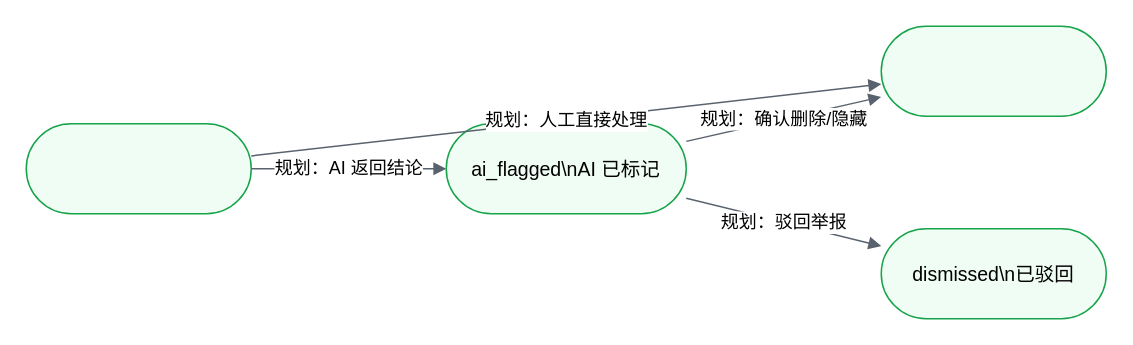
Image size: 1133x345. Some labels were removed from this diagram. The shapes that lost their labels are listed below. From the top down, each one's box as (x1, y1, x2, y2) in pixels, then its label:
(880, 25, 1106, 116): resolved\n已处理
(25, 122, 251, 214): pending\n待处理
